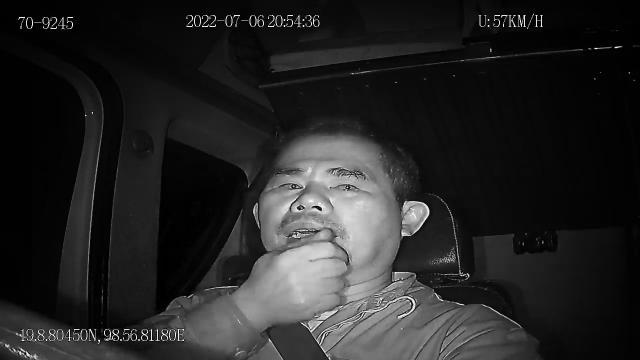SafeDriving: (324, 172, 369, 197), (270, 173, 308, 196)
Seatbelt: (265, 318, 331, 360)
